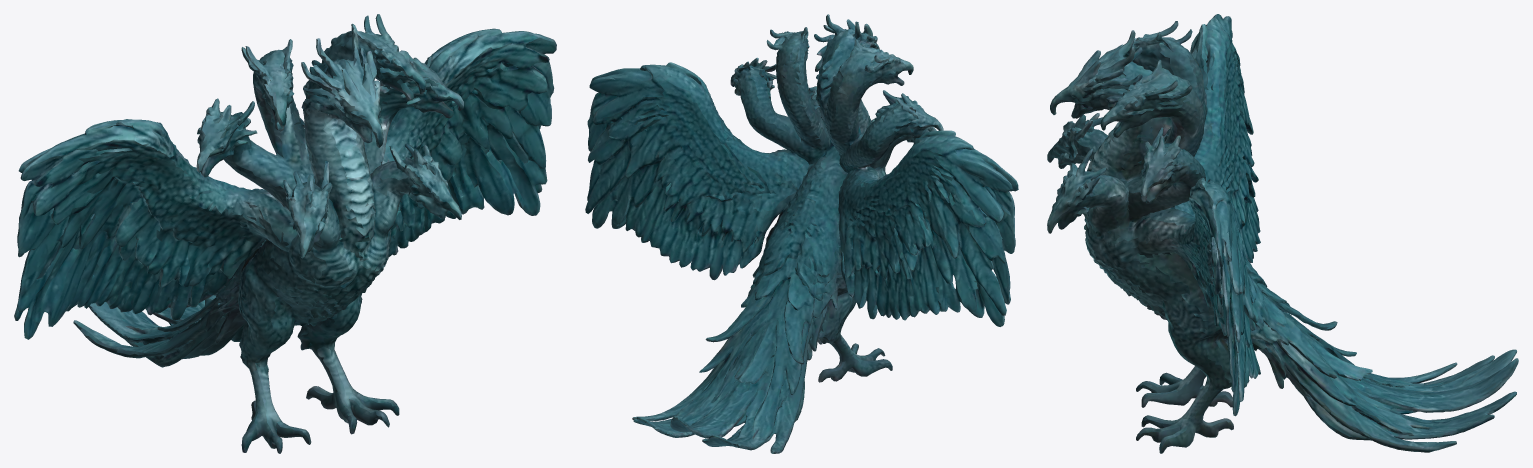
The model's file is tianwu.glb.
3 views of the same model, side by side, from view 1: azimuth 30°, elevation 25°; view 2: azimuth 150°, elevation 25°; view 3: azimuth 270°, elevation 25° (orthographic). The views are drawn at different scales.
Parts seen in each view (by area): view 1: geometry_0; view 2: geometry_0; view 3: geometry_0.
Boxes of the visible parts, x1=… form: geometry_0: x1=14, y1=14, x2=556, y2=453; geometry_0: x1=585, y1=14, x2=1018, y2=453; geometry_0: x1=1047, y1=14, x2=1518, y2=453.
Bounding box in the file's own units: 0.9691 × 0.7168 × 0.8.
1 material, 1 textured.
